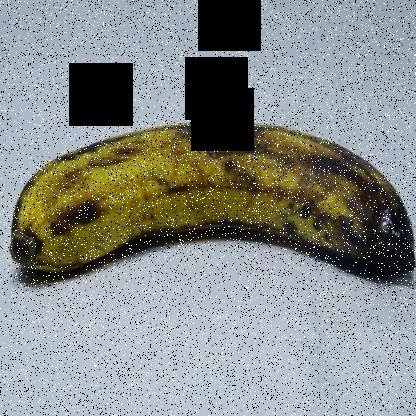overripe: (0, 93, 415, 325)
rotten: (291, 150, 415, 290)
